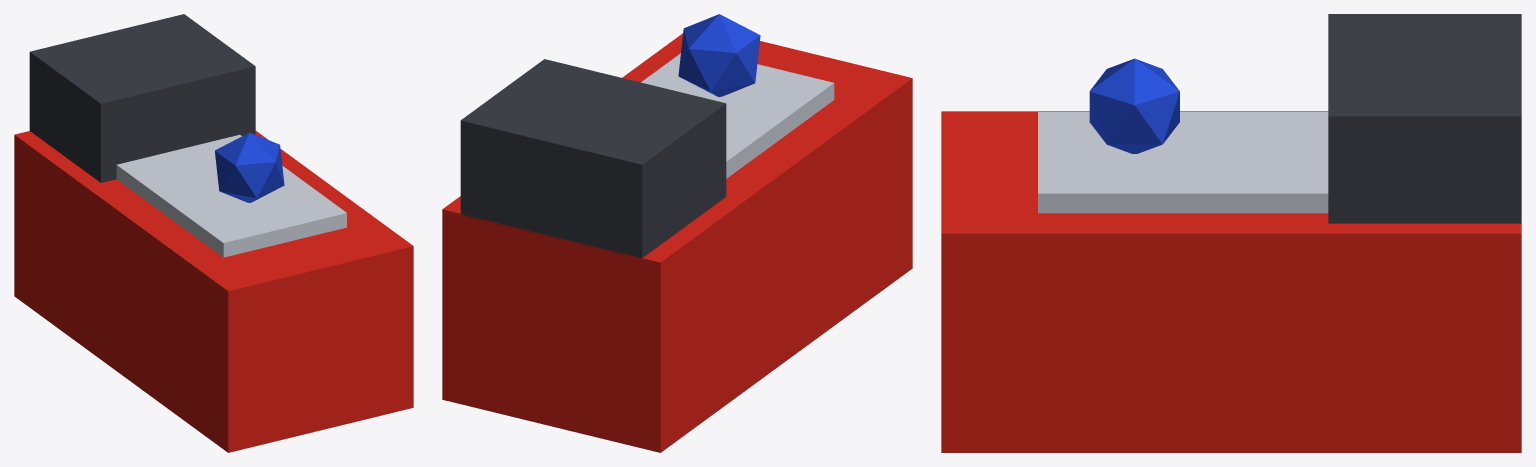
The model's file is ball_return.glb.
3 views of the same model, side by side, from view 1: azimuth 30°, elevation 25°; view 2: azimuth 150°, elevation 25°; view 3: azimuth 270°, elevation 25° (orthographic). The views are drawn at different scales.
Visible parts, largest first — view 1: ball_return; view 2: ball_return; view 3: ball_return.
Part boxes in pixels (left/top/right/bottom): ball_return: left=14, top=14, right=413, bottom=452; ball_return: left=442, top=14, right=912, bottom=452; ball_return: left=941, top=14, right=1521, bottom=452.
Bounding box in the file's own units: 0.6 × 0.76 × 1.2.
